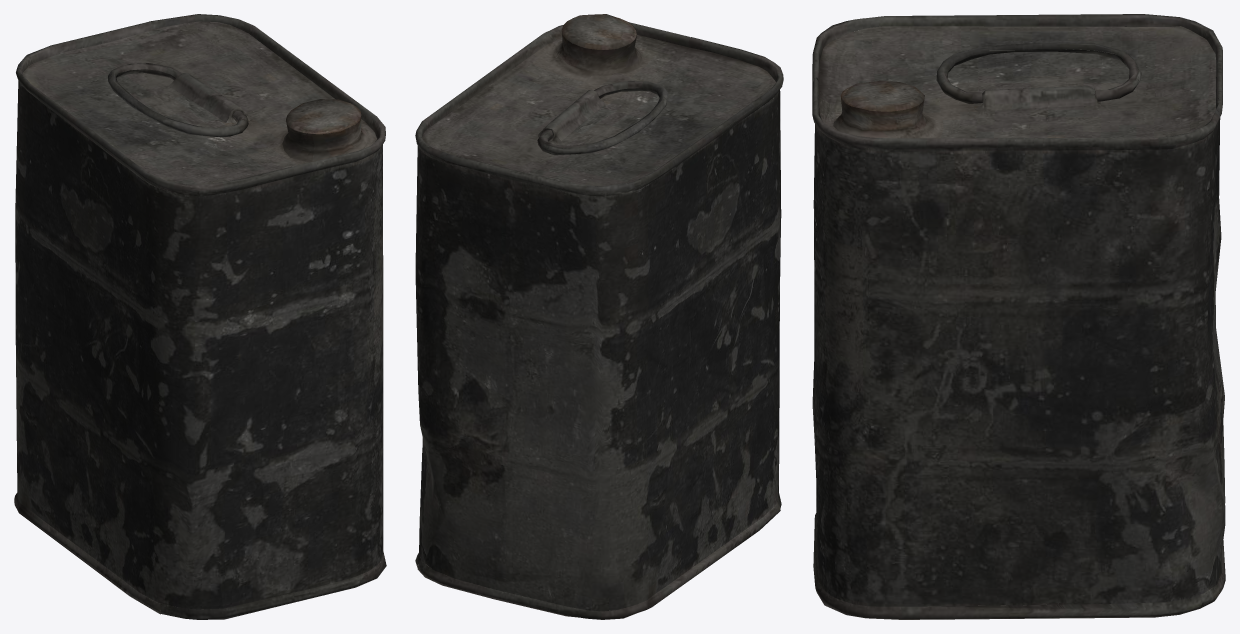
Rendered from ph_oil_tin.gltf.
3 views of the same model, side by side, from view 1: azimuth 30°, elevation 25°; view 2: azimuth 150°, elevation 25°; view 3: azimuth 270°, elevation 25° (orthographic). The views are drawn at different scales.
Visible parts, largest first — view 1: Body; view 2: Body; view 3: Body.
Boxes of the visible parts, <box> form: Body: <box>14,14,386,619</box>; Body: <box>415,14,783,619</box>; Body: <box>812,14,1225,619</box>.
Size of the model in its own units: 0.1144 by 0.2053 by 0.1537.
Materials: 1 (1 with a texture image).
